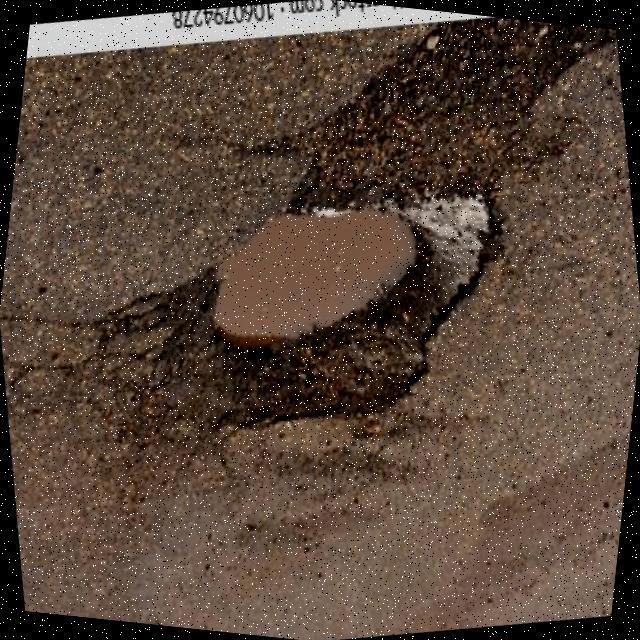Pothole: (147, 193, 494, 432)
